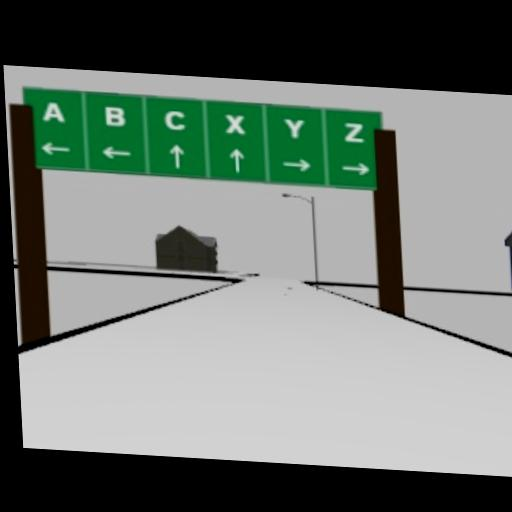A: (42, 100, 64, 122)
B: (104, 105, 125, 126)
C: (164, 108, 186, 130)
Left: (100, 144, 131, 159), (40, 140, 71, 155)
Right: (341, 160, 370, 175), (281, 157, 310, 171)
Straight: (168, 143, 185, 167), (228, 147, 245, 171)
X: (224, 112, 246, 133)
Y: (283, 116, 305, 138)
Z: (343, 120, 365, 141)
